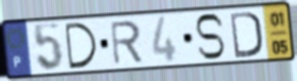4: (150, 14, 181, 65)
5: (30, 21, 66, 73)
D: (62, 21, 100, 71), (228, 10, 264, 60)
R: (108, 19, 145, 67)
S: (193, 12, 226, 62)
